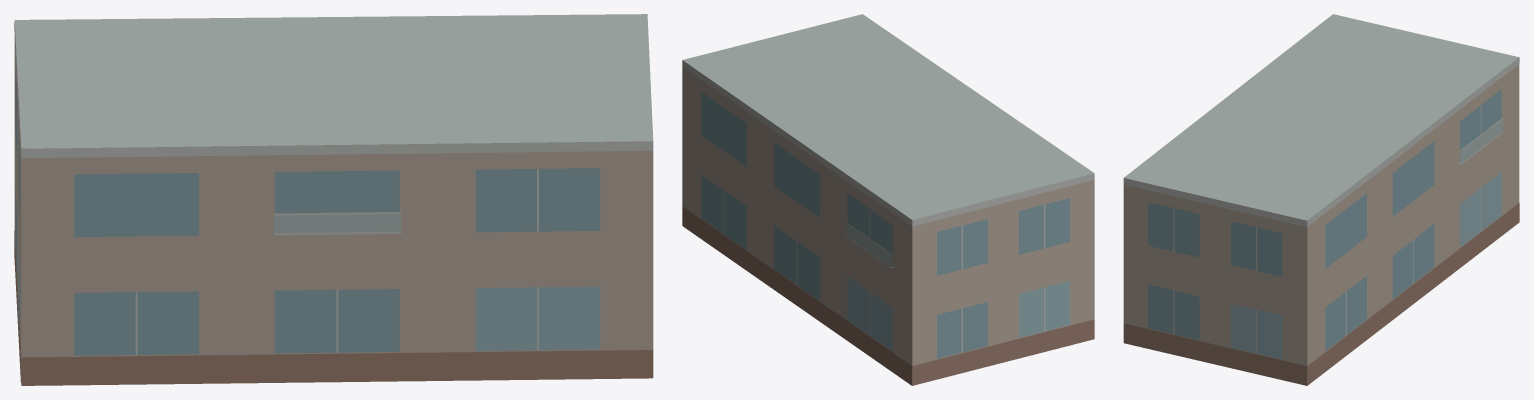
File: survey-upis-32720174.glb
3 views of the same model, side by side, from view 1: azimuth 30°, elevation 25°; view 2: azimuth 150°, elevation 25°; view 3: azimuth 270°, elevation 25° (orthographic). The views are drawn at different scales.
Parts seen in each view (by area): view 1: survey-upis-32720174.tmp; view 2: survey-upis-32720174.tmp; view 3: survey-upis-32720174.tmp.
Part boxes in pixels (x1,y1,x2,y2): survey-upis-32720174.tmp: (14, 14, 653, 385); survey-upis-32720174.tmp: (682, 14, 1094, 385); survey-upis-32720174.tmp: (1123, 14, 1519, 385).
Size of the model in its own units: 16.37 by 6.1 by 13.25.
